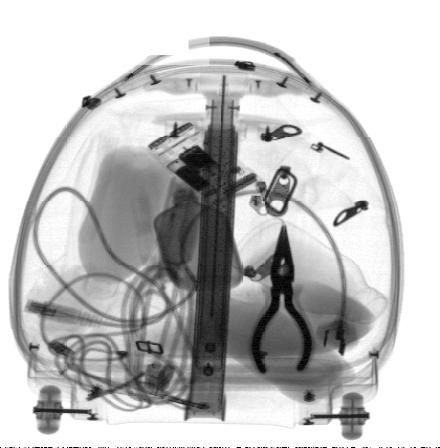Pliers: (249, 223, 312, 372)
